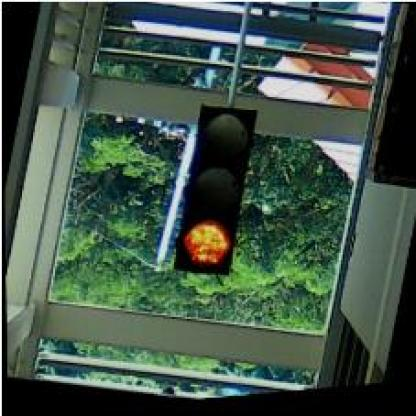red: (164, 104, 261, 285)
